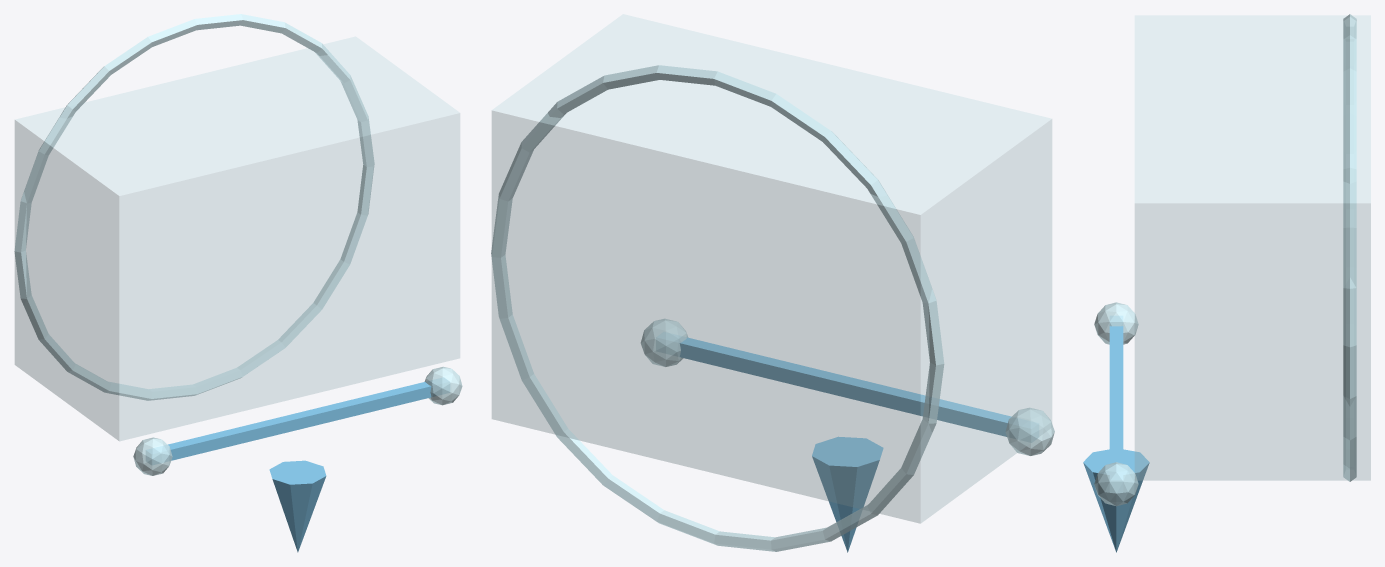
File: 06_dynamic_combat_camera_trigger.glb
3 renders of one model, left to right at view 1: azimuth 30°, elevation 25°; view 2: azimuth 150°, elevation 25°; view 3: azimuth 270°, elevation 25°, orthographic. The views are drawn at different scales.
Visible parts, largest first — view 1: combat_camera_volume, combat_start_ring, camera_rail, look_direction, camera_anchor_a, camera_anchor_b; view 2: combat_camera_volume, combat_start_ring, camera_rail, look_direction, camera_anchor_a, camera_anchor_b; view 3: combat_camera_volume, combat_start_ring, look_direction, camera_rail, camera_anchor_b, camera_anchor_a.
Boxes of the visible parts, <box> form: combat_camera_volume: <box>15,36,459,441</box>; combat_start_ring: <box>14,14,374,400</box>; camera_rail: <box>146,378,449,464</box>; look_direction: <box>269,460,326,552</box>; camera_anchor_a: <box>133,437,172,475</box>; camera_anchor_b: <box>424,366,462,405</box>; combat_camera_volume: <box>492,14,1051,523</box>; combat_start_ring: <box>491,65,944,551</box>; camera_rail: <box>679,337,1011,436</box>; look_direction: <box>812,436,883,552</box>; camera_anchor_a: <box>1005,407,1054,455</box>; camera_anchor_b: <box>641,318,687,366</box>; combat_camera_volume: <box>1135,15,1370,480</box>; combat_start_ring: <box>1343,14,1356,481</box>; look_direction: <box>1083,449,1149,552</box>; camera_rail: <box>1109,316,1123,492</box>; camera_anchor_b: <box>1094,462,1138,506</box>; camera_anchor_a: <box>1094,302,1138,344</box>.
Size of the model in its own units: 1.69 by 2.06 by 1.03.
